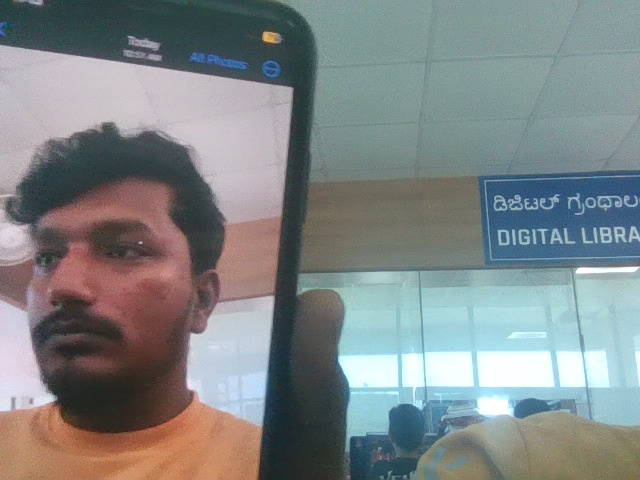fake: (0, 91, 231, 419)
